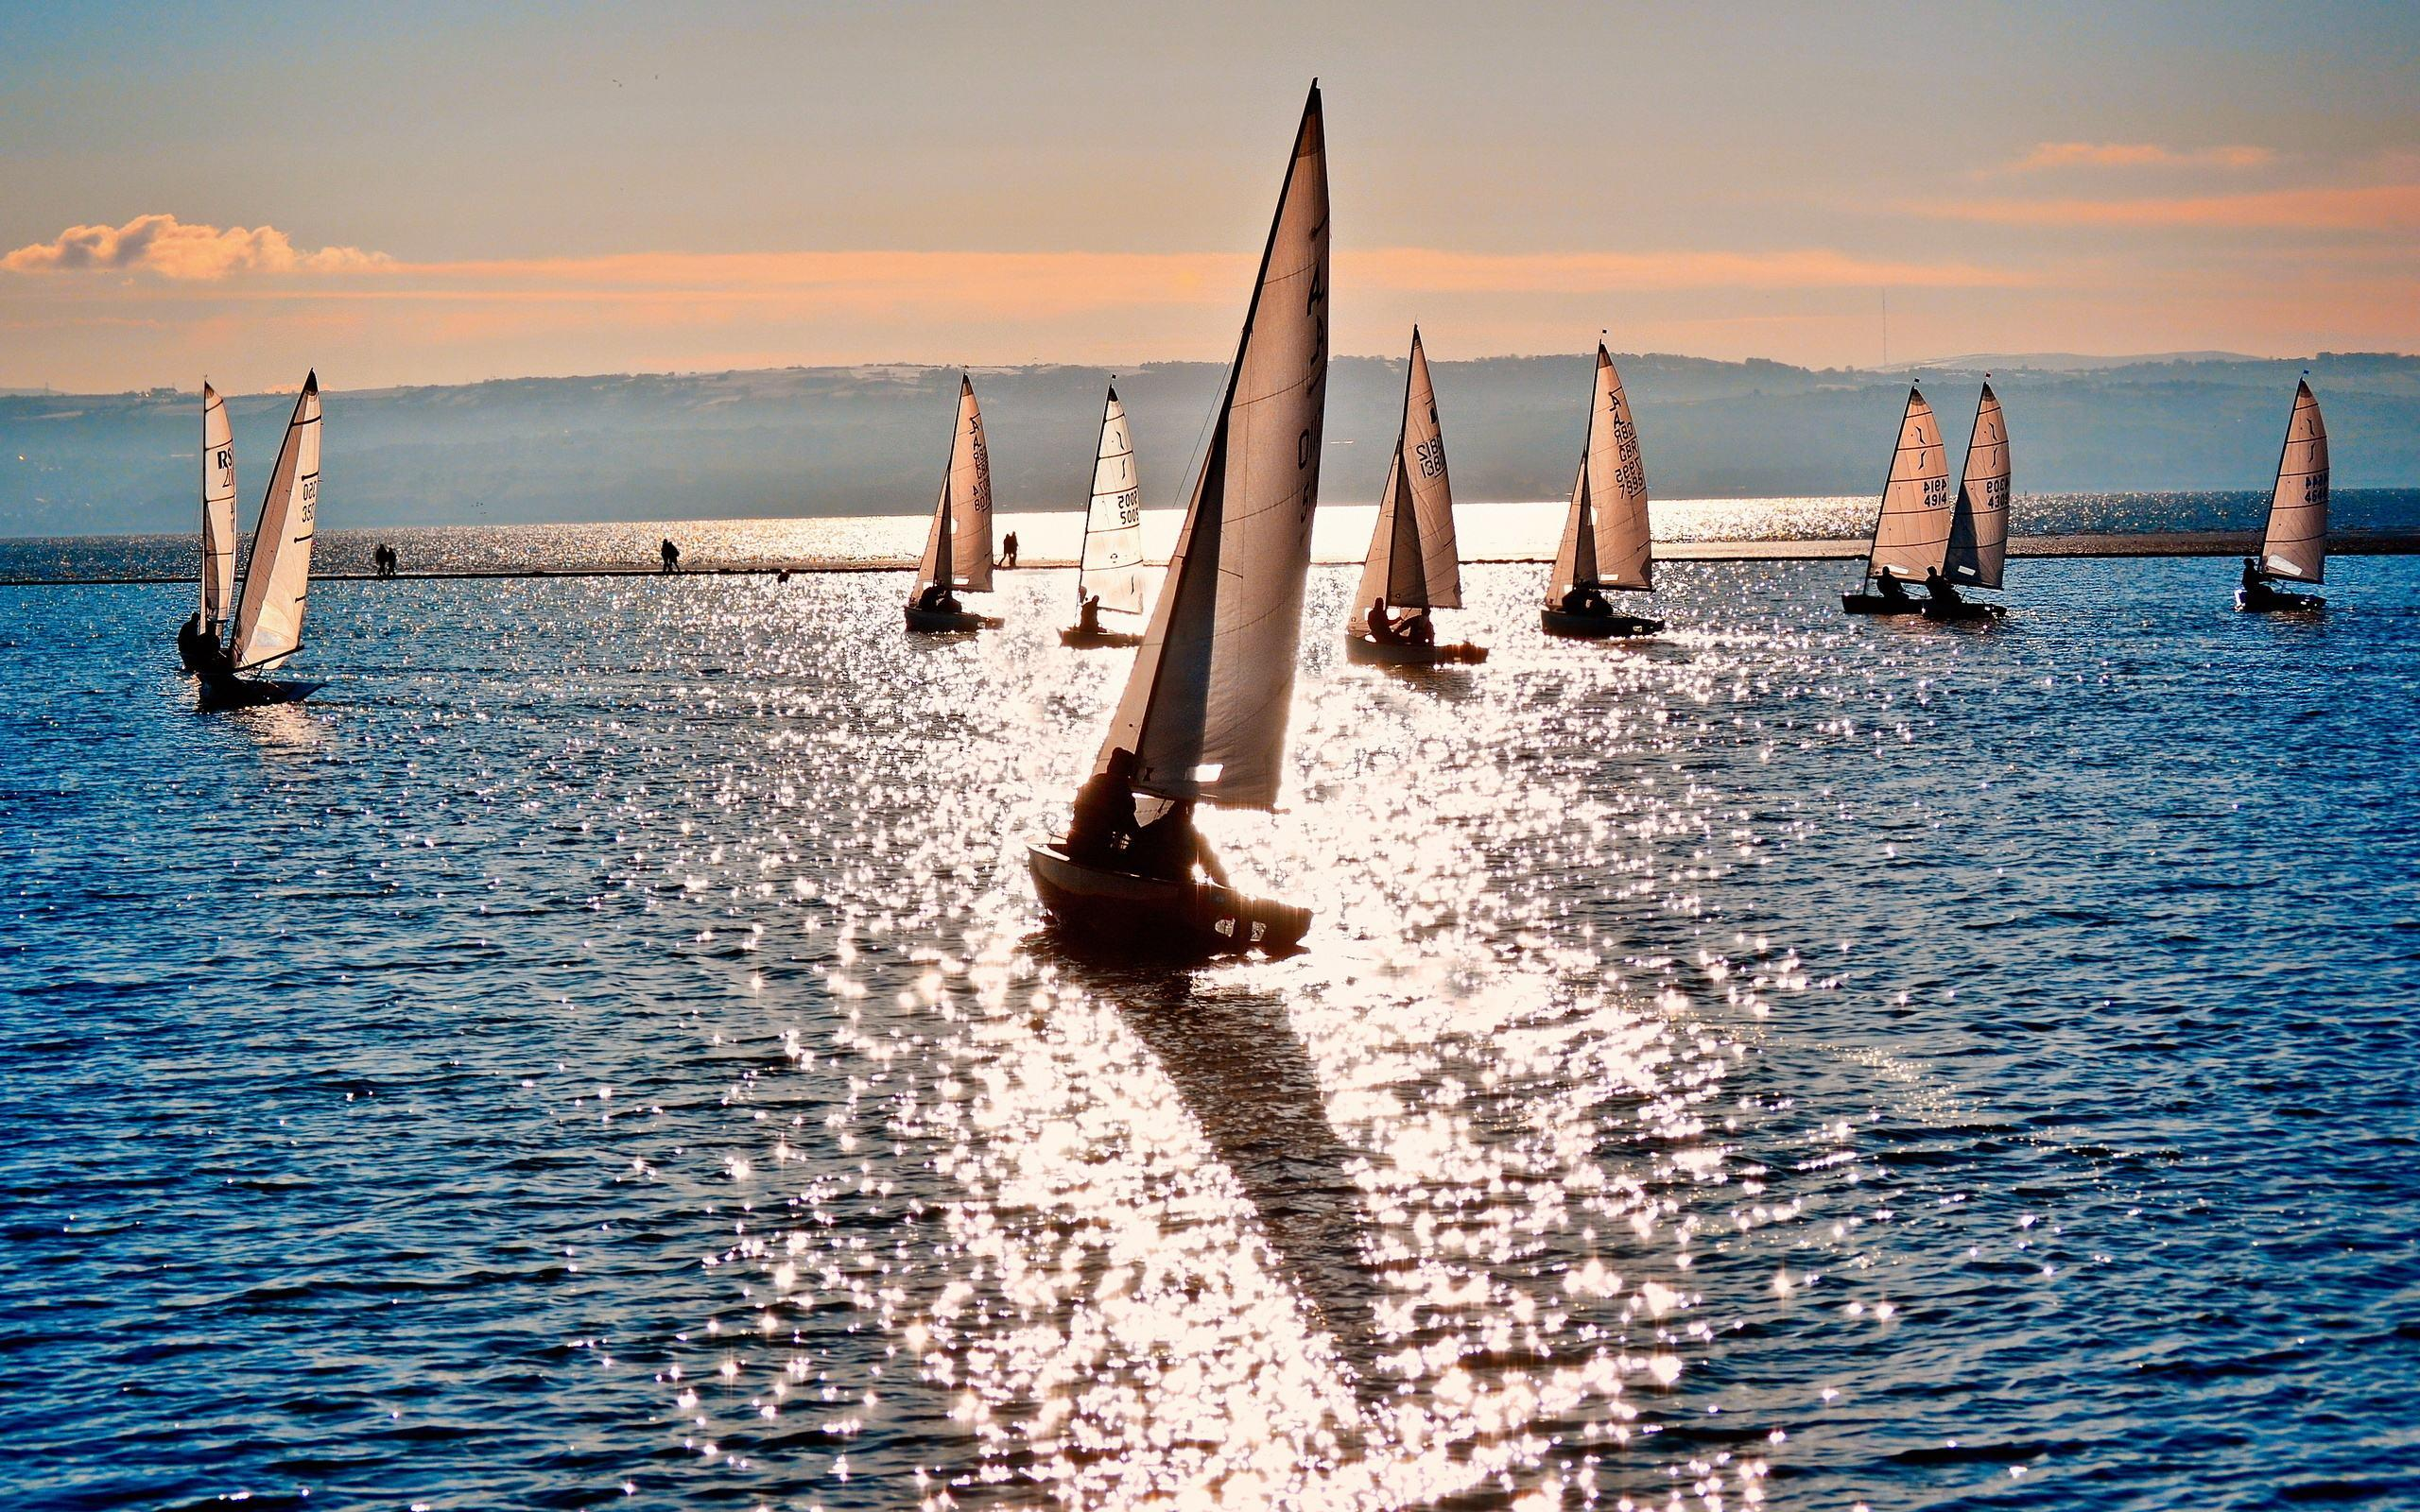fanchuan: (1030, 75, 1427, 955), (153, 368, 355, 726), (1342, 327, 1505, 669), (1537, 334, 1693, 641), (2228, 369, 2368, 618), (896, 369, 1016, 639), (1051, 373, 1164, 653), (1826, 388, 1953, 618), (1927, 376, 2019, 625)
